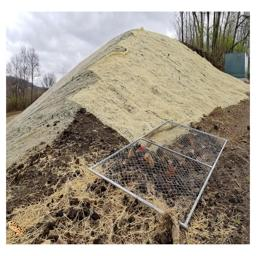Sparrow: (6, 221, 28, 241)
